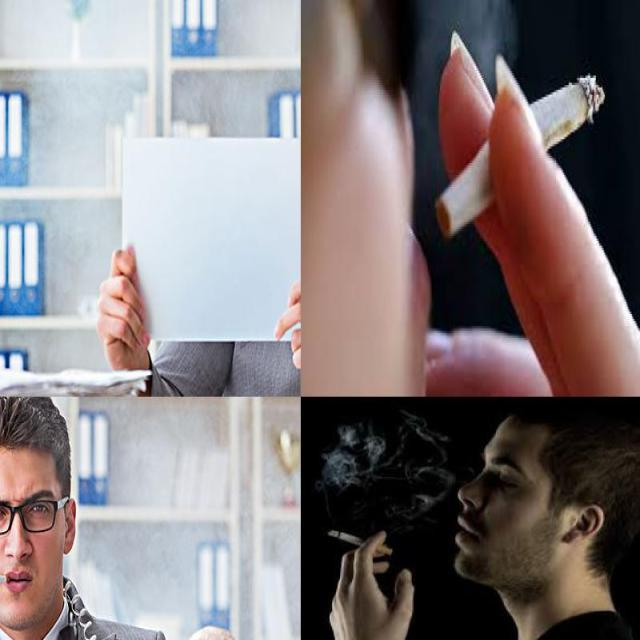smoking: (438, 75, 606, 238), (328, 530, 393, 556), (0, 573, 12, 584)
